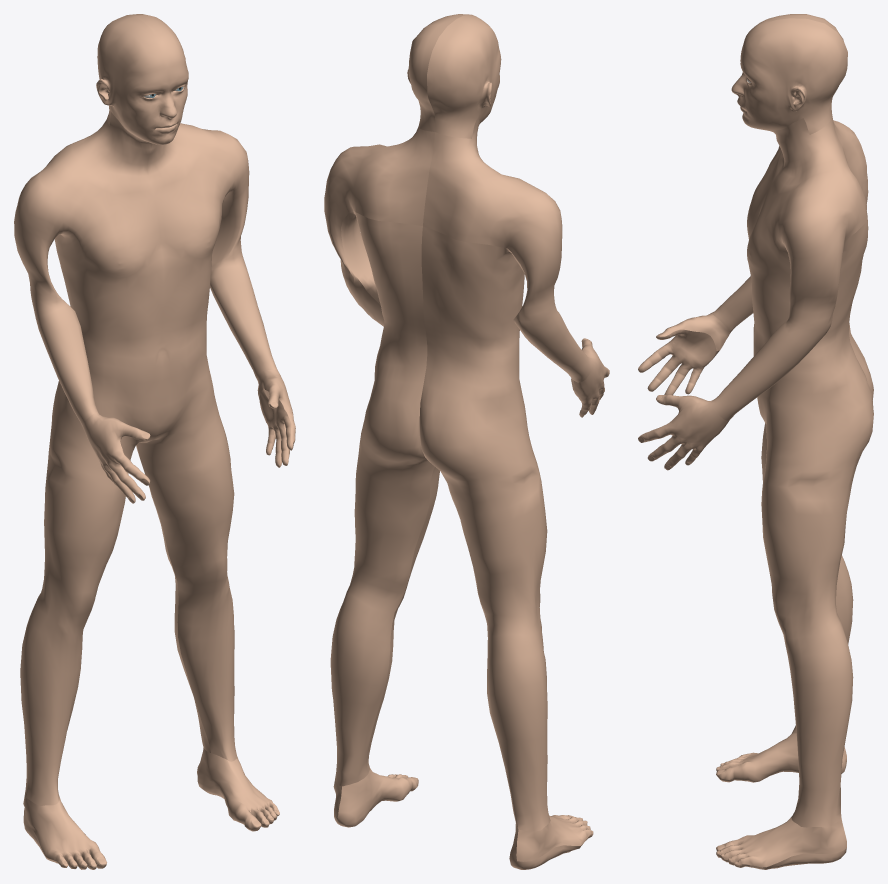
The model's file is body-jugendlicher-maennlich-real-v3.glb.
3 views of the same model, side by side, from view 1: azimuth 30°, elevation 25°; view 2: azimuth 150°, elevation 25°; view 3: azimuth 270°, elevation 25° (orthographic).
Parts seen in each view (by area): view 1: real-human-body; view 2: real-human-body; view 3: real-human-body.
Part boxes in pixels (<box>): real-human-body: <box>14,14,295,869</box>; real-human-body: <box>324,14,609,869</box>; real-human-body: <box>638,14,873,869</box>.
Size of the model in its own units: 0.4891 by 1.66 by 0.4435.
